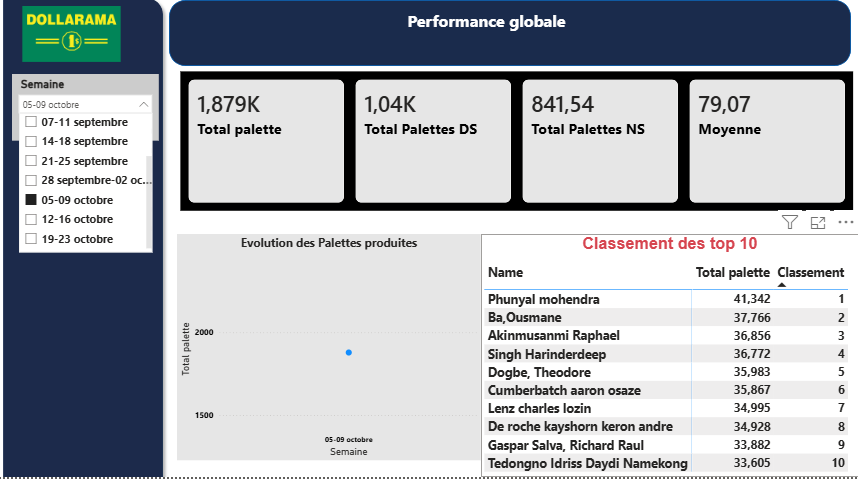

This screenshot's page, from the dashboard's own definition file:
{"tool":"powerbi","page":{"name":"Page 1","canvas":[1280,720],"ordinal":0},"visuals":[{"type":"shape","box":[255.4,11.9,1012.7,98],"z":5},{"type":"shape","box":[0,0,255.4,849.4],"z":6},{"type":"textbox","box":[403.9,20.8,645.9,68.3],"z":8},{"type":"image","box":[35.6,20.8,150,83.2],"z":9},{"type":"slicer","fields":{"Values":["Table.Semaine"]},"box":[22.3,121.8,218.3,66.8],"z":10},{"type":"areaChart","title":"Evolution  des Palettes produites","fields":{"Category":["Table.Semaine"],"Y":["Mesures.Total palette"]},"box":[267.2,359.1,451.1,335.5],"z":12},{"type":"cardVisual","fields":{"Data":["Mesures.Total palette","Mesures.Total Palettes DS","Mesures.Total Palettes NS","Mesures.Moyenne"]},"box":[267.2,113.1,1012.8,217.5],"z":13},{"type":"pivotTable","title":"Classement  par palettes produites","fields":{"Rows":["Table.Name"],"Values":["Mesures.Total palette","Mesures.Rang Pal"]},"box":[718.7,359.4,561.3,349],"z":14}]}

Visuals, with their boxes in screenshot pixels (x1, y1, x2, y2), scaled from the page's 1280x720 canvas onto the 858x480 screenshot:
shape: 171:8:850:73
shape: 0:0:171:479
textbox: 271:14:704:59
image: 24:14:124:69
slicer - Table.Semaine: 15:81:161:126
"Evolution  des Palettes produites" areaChart: 179:239:481:463
cardVisual - Mesures.Total palette x Mesures.Total Palettes DS: 179:75:857:220
"Classement  par palettes produites" pivotTable: 482:240:857:472
